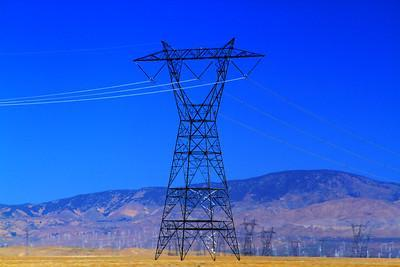power_tower: (132, 36, 266, 263)
